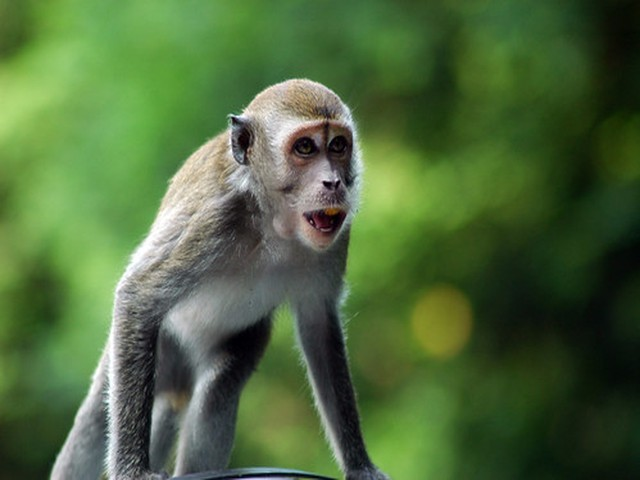Monkey: (47, 77, 379, 480)
